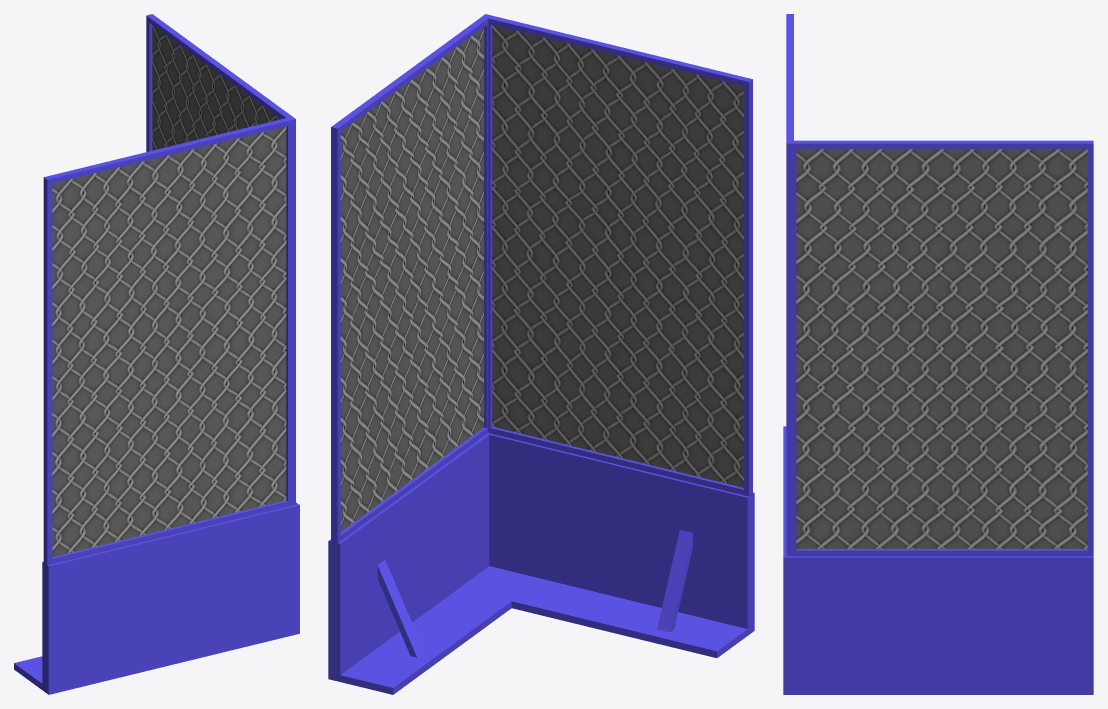
Rendered from Fence_02_CornerEdge.FBX.
The picture shows the model from 3 angles, left to right: view 1: azimuth 30°, elevation 25°; view 2: azimuth 150°, elevation 25°; view 3: azimuth 270°, elevation 25°; orthographic projection. The views are drawn at different scales.
Parts seen in each view (by area): view 1: Fence_02_CornerEdge; view 2: Fence_02_CornerEdge; view 3: Fence_02_CornerEdge.
Boxes of the visible parts, x1,y1,x2,y2 form: Fence_02_CornerEdge: (14,14,299,694); Fence_02_CornerEdge: (328,14,754,694); Fence_02_CornerEdge: (783,14,1093,694).
Bounding box in the file's own units: 2.05 × 4 × 2.05.
Materials: 2 (1 with a texture image).
